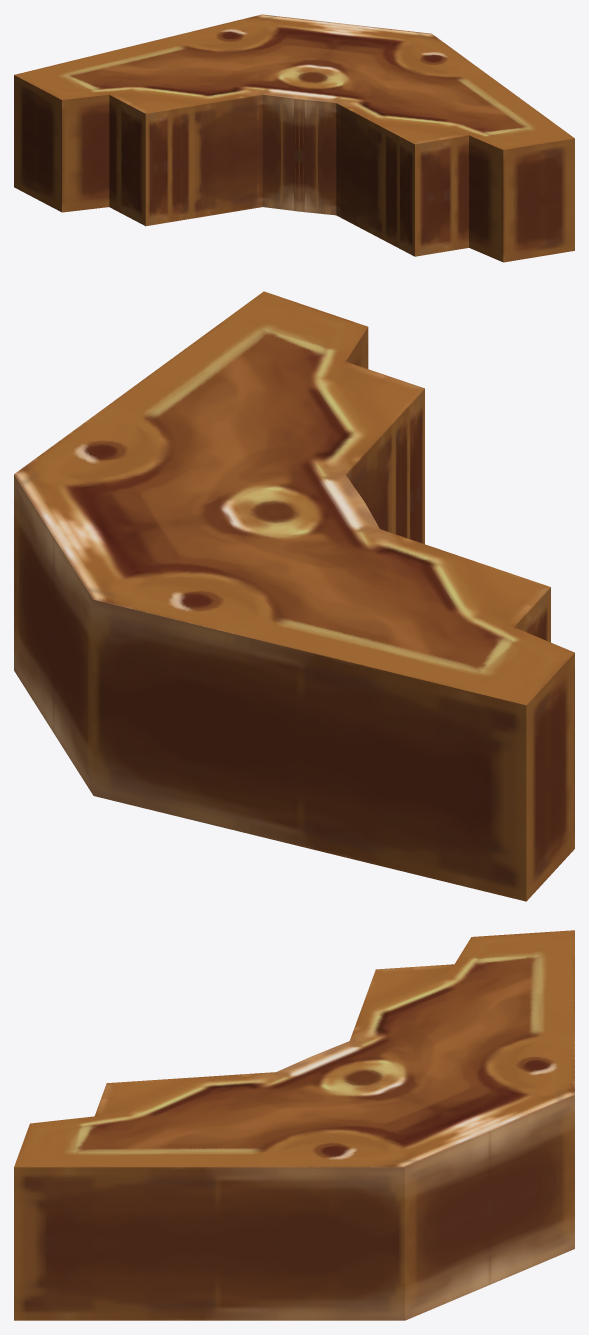
File: diagonalBlock_01.fbx
3 renders of one model, top to bottom at view 1: azimuth 30°, elevation 25°; view 2: azimuth 150°, elevation 25°; view 3: azimuth 270°, elevation 25°, orthographic. The views are drawn at different scales.
Parts seen in each view (by area): view 1: diagonal_01; view 2: diagonal_01; view 3: diagonal_01.
Boxes of the visible parts, left/top/right/bottom form: diagonal_01: left=14, top=14, right=574, bottom=262; diagonal_01: left=14, top=291, right=574, bottom=901; diagonal_01: left=14, top=930, right=574, bottom=1320.
Size of what is drawn, in the model's own units: 3.3 by 0.9972 by 3.3.
1 material, 1 textured.
